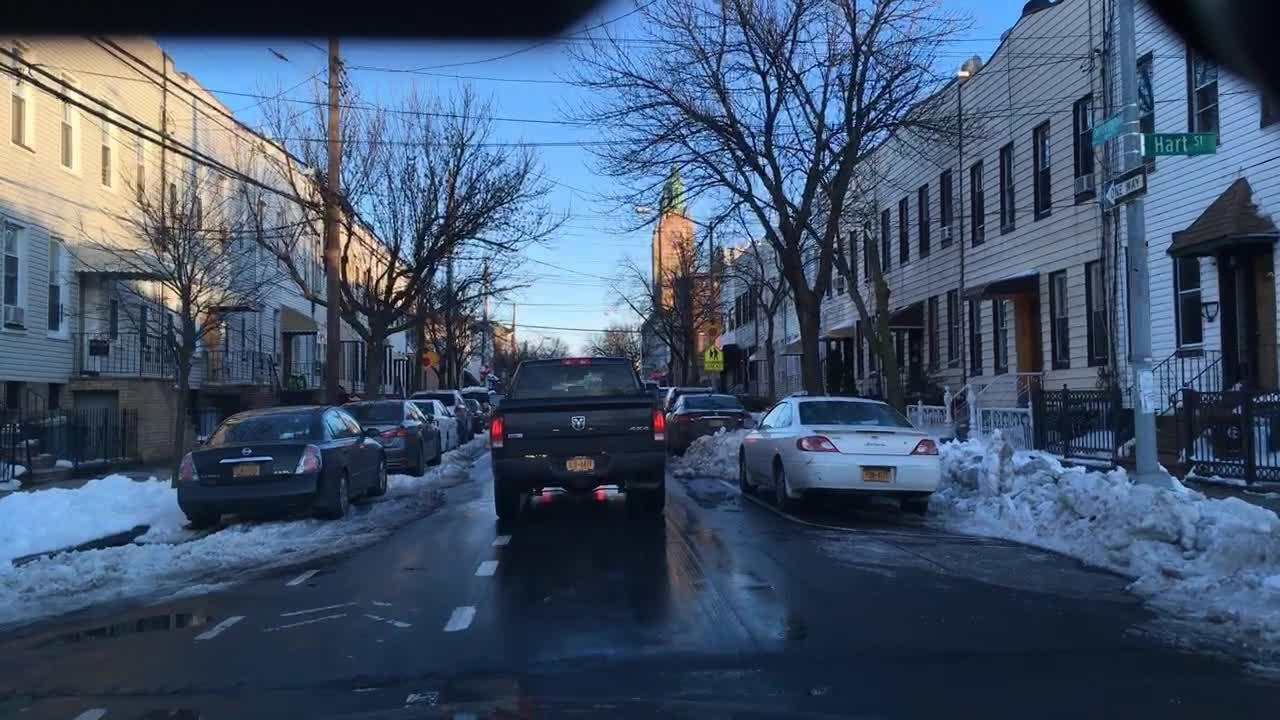Nissan: (240, 446, 255, 458)
ram: (567, 410, 590, 432)
